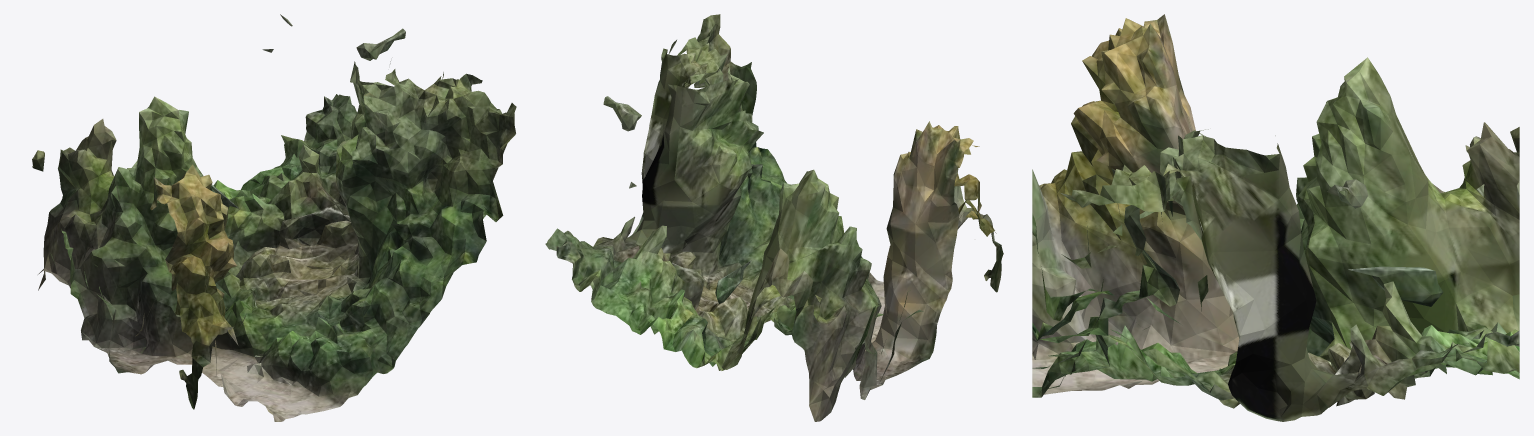
3 views of the same model, side by side, from view 1: azimuth 30°, elevation 25°; view 2: azimuth 150°, elevation 25°; view 3: azimuth 270°, elevation 25° (orthographic). The views are drawn at different scales.
Bounding box in the file's own units: 23.6 × 18.06 × 23.6.
6 materials, 6 textured.
